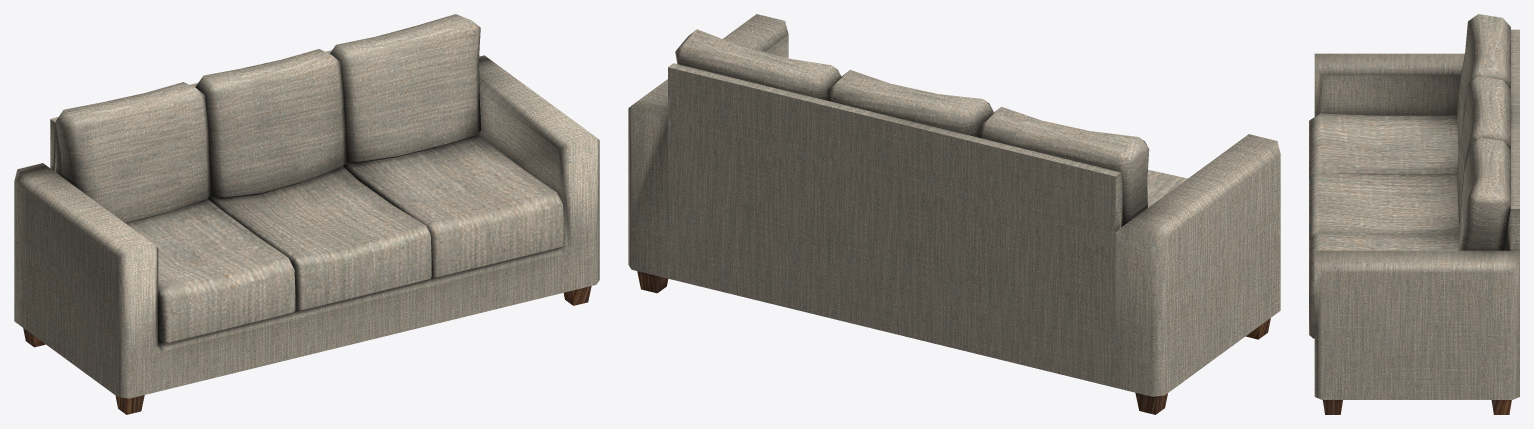
File: couch.fbx
3 renders of one model, left to right at view 1: azimuth 30°, elevation 25°; view 2: azimuth 150°, elevation 25°; view 3: azimuth 270°, elevation 25°, orthographic. The views are drawn at different scales.
Parts seen in each view (by area): view 1: couch; view 2: couch; view 3: couch.
Part boxes in pixels (box(x1,y1,x2,y2)): couch: box(14, 14, 599, 414); couch: box(628, 14, 1280, 414); couch: box(1309, 14, 1519, 414).
Size of the model in its own units: 4.05 by 1.84 by 1.68.
1 material, 1 textured.
